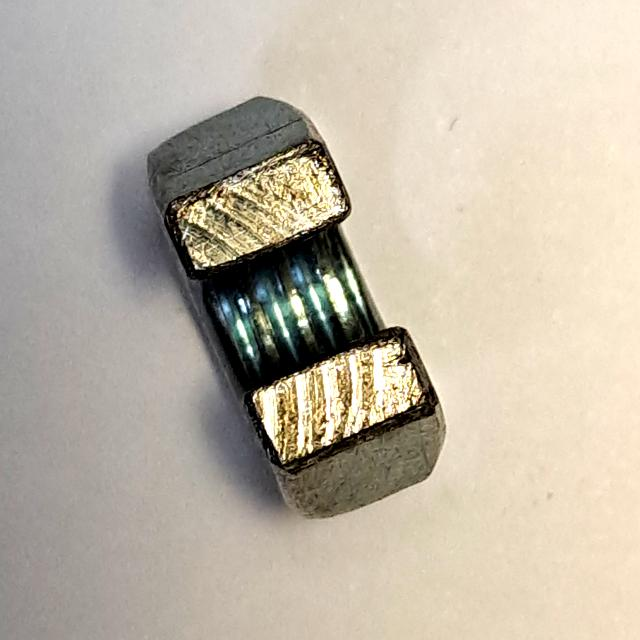Side-Fracture: (134, 85, 457, 536)
